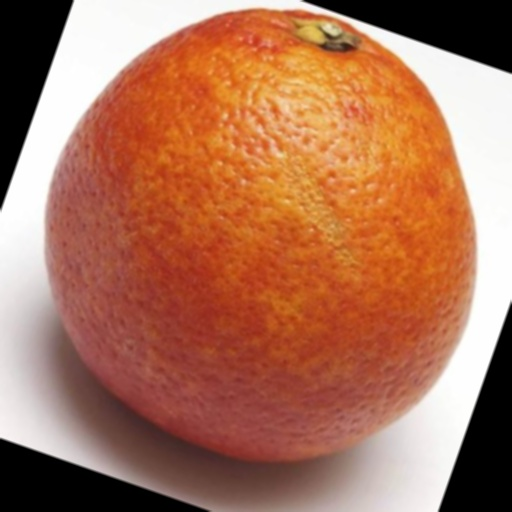fruit: (373, 201, 512, 512)
